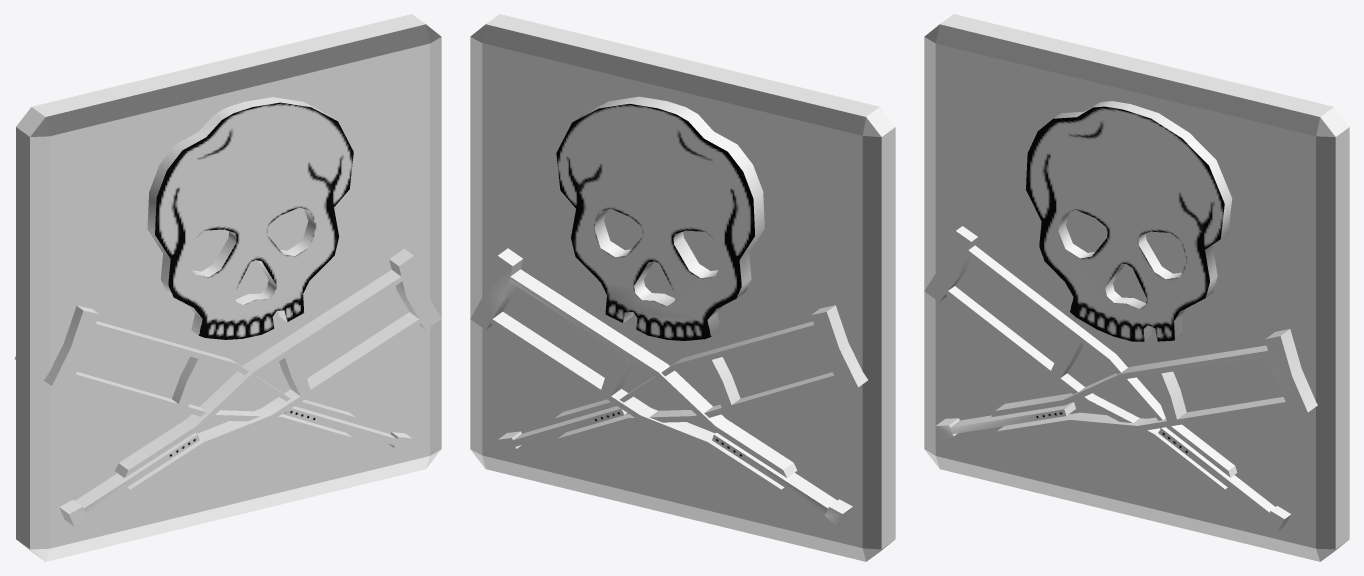
File: SAVEICON.ICO.obj
3 views of the same model, side by side, from view 1: azimuth 30°, elevation 25°; view 2: azimuth 150°, elevation 25°; view 3: azimuth 330°, elevation 25° (orthographic).
Bounding box in the file's own units: 4.66 × 4.81 × 0.8271.
1 material, 1 textured.
